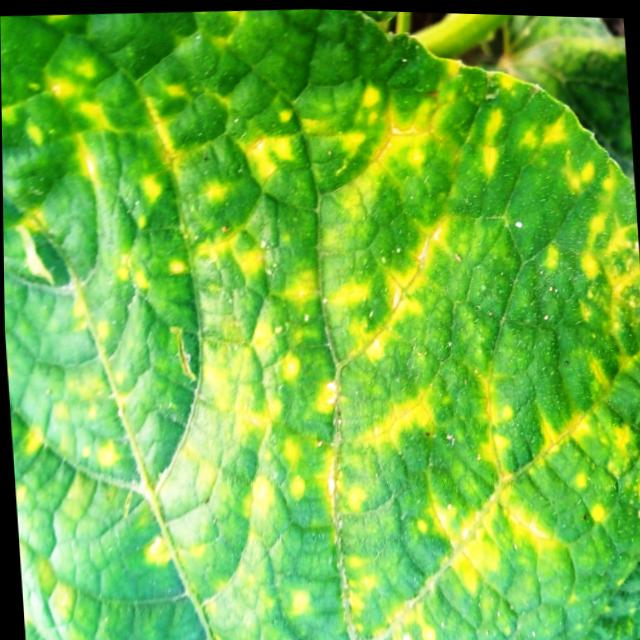Downy-Mildew: (0, 7, 640, 640)
